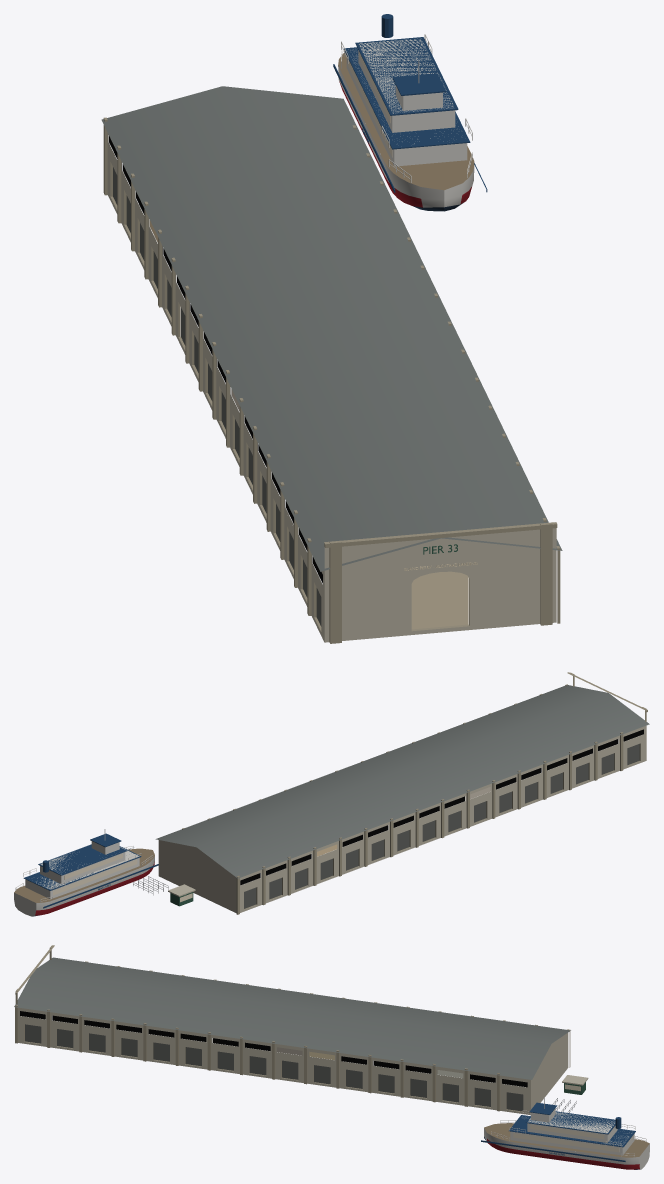
Rendered from pier33_lod0.glb.
The picture shows the model from 3 angles, top to bottom: view 1: azimuth 30°, elevation 25°; view 2: azimuth 150°, elevation 25°; view 3: azimuth 270°, elevation 25°; orthographic projection. The views are drawn at different scales.
Visible parts, largest first — view 1: L0_roof, L0_stucco, L0_paint, L0_shop, L0_wood, L0_metal, L0_win; view 2: L0_roof, L0_stucco, L0_paint, L0_metal, L0_win, L0_wood, L0_shop; view 3: L0_roof, L0_stucco, L0_paint, L0_metal, L0_win, L0_shop, L0_wood.
Boxes of the visible parts, bbox=[...] form: L0_roof: bbox=[101, 86, 562, 571]; L0_stucco: bbox=[103, 117, 560, 643]; L0_paint: bbox=[333, 14, 487, 554]; L0_shop: bbox=[347, 52, 468, 629]; L0_wood: bbox=[338, 53, 474, 190]; L0_metal: bbox=[113, 60, 419, 626]; L0_win: bbox=[109, 136, 322, 583]; L0_roof: bbox=[155, 685, 649, 878]; L0_stucco: bbox=[158, 672, 647, 914]; L0_paint: bbox=[14, 833, 195, 916]; L0_metal: bbox=[104, 744, 639, 908]; L0_win: bbox=[240, 729, 643, 885]; L0_wood: bbox=[14, 848, 154, 902]; L0_shop: bbox=[53, 853, 192, 902]; L0_roof: bbox=[14, 957, 570, 1079]; L0_stucco: bbox=[15, 945, 570, 1114]; L0_paint: bbox=[481, 1075, 649, 1169]; L0_metal: bbox=[25, 1024, 576, 1112]; L0_win: bbox=[20, 1011, 527, 1087]; L0_shop: bbox=[513, 1084, 619, 1152]; L0_wood: bbox=[484, 1123, 649, 1157].
Bounding box in the file's own units: 92.5 × 16.88 × 150.
